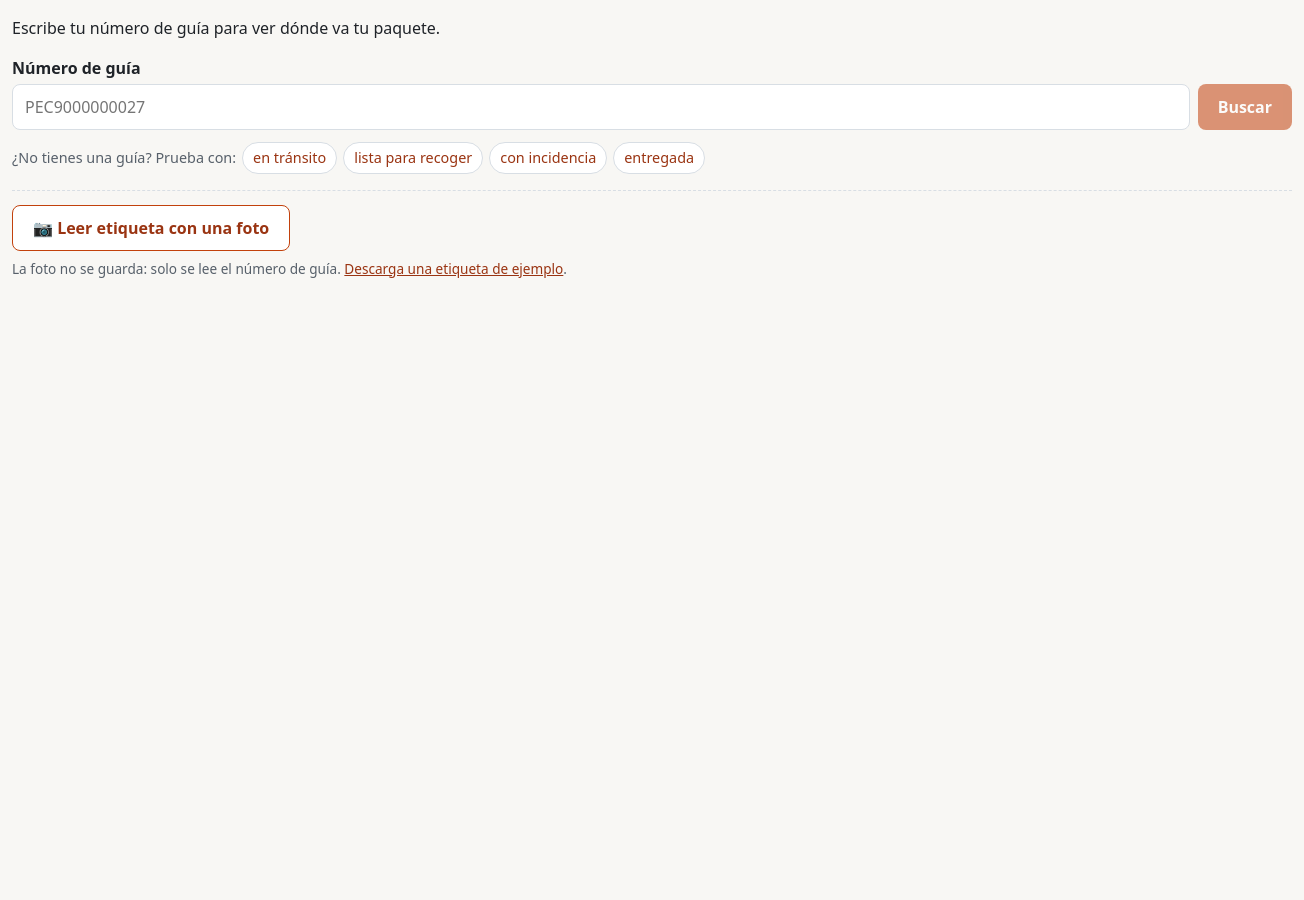
it: Rastreo › muestra la hora en horario de la Ciudad de México, no en UTC
The width and height of the screenshot is (1304, 900).
Type "PEC2610190049" into the field labelled "Número de guía" at (601,107), box [12,84,1190,130]
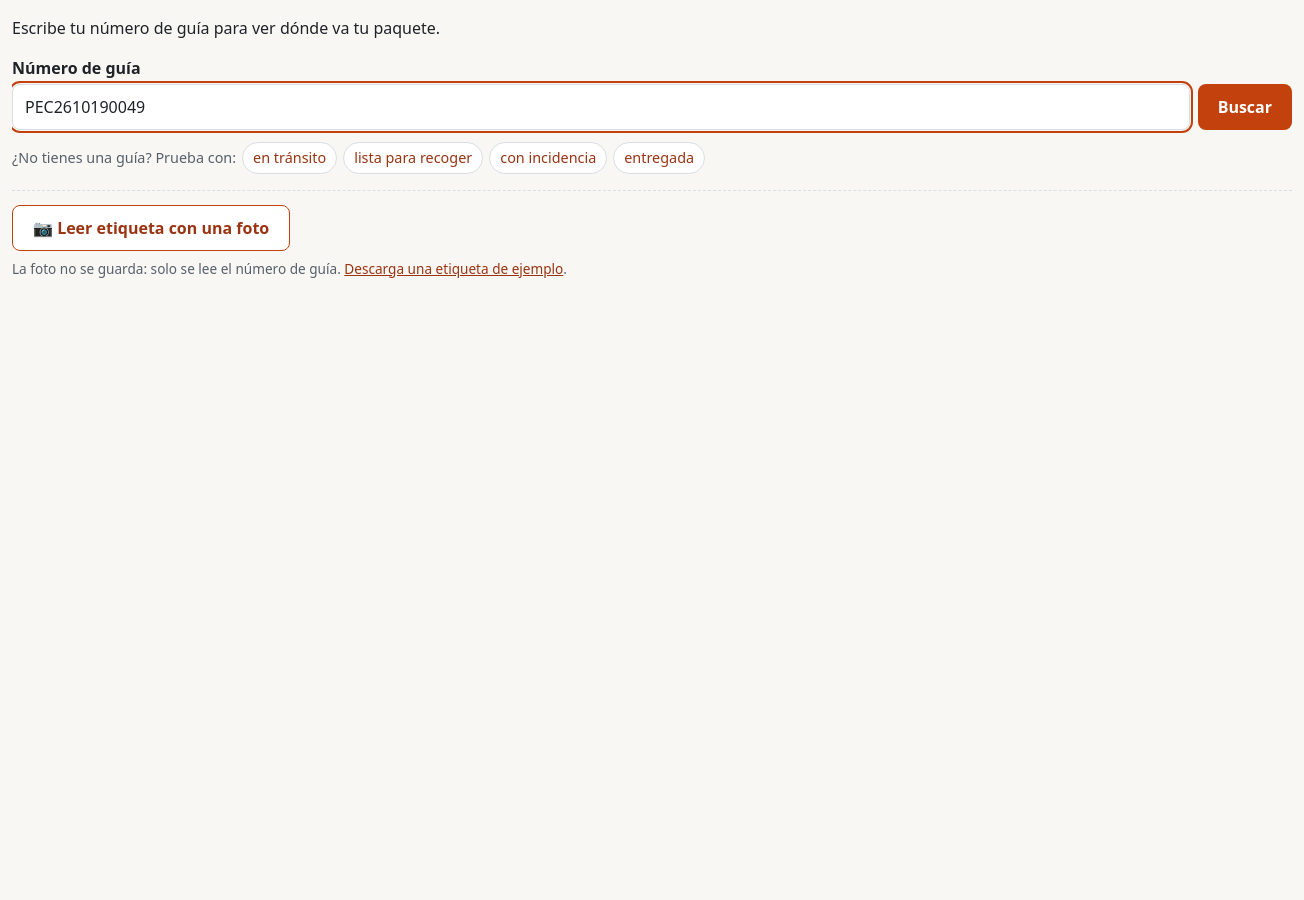
Click the button "Buscar" at (1245,107), box [1198,84,1292,130]
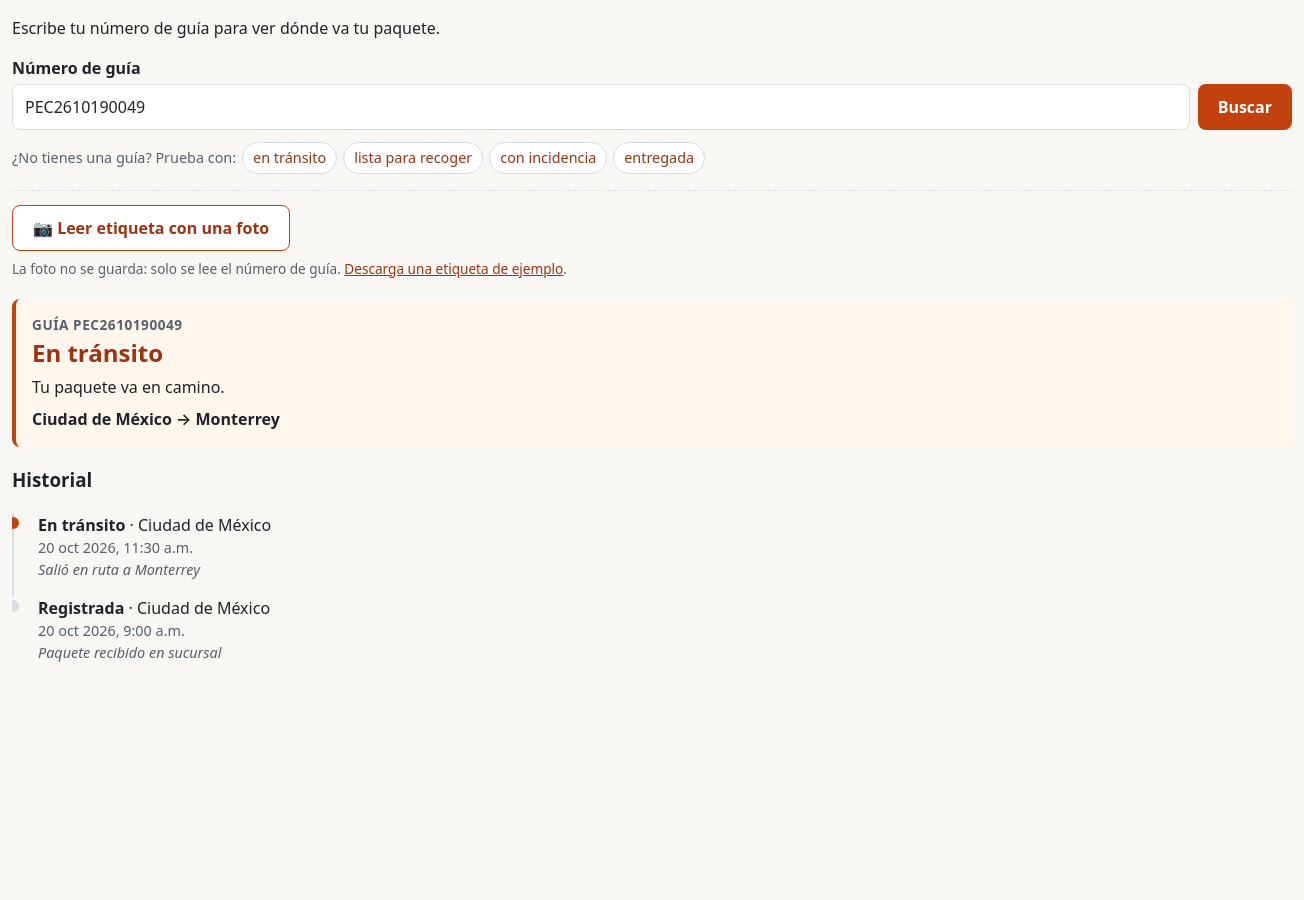
Check: the list item that starts with "Registrada" shows "20 oct 2026", box [38,621,185,640]
Check: the list item that starts with "Registrada" shows "9:00", box [38,621,185,640]
